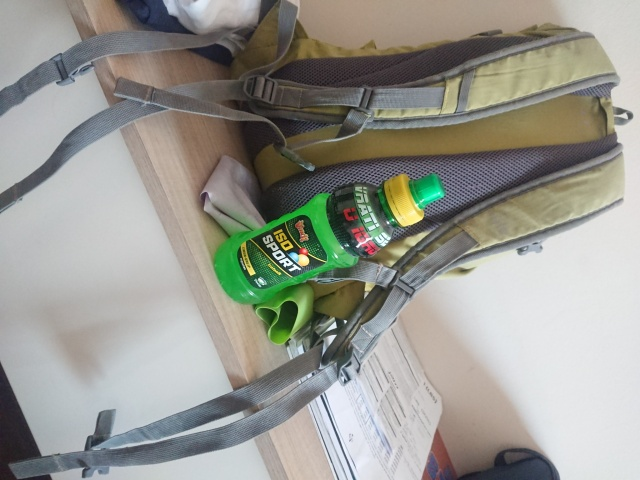Vindi Iso Sport Lemon-Grapefruit 500mL: (210, 171, 448, 308)
